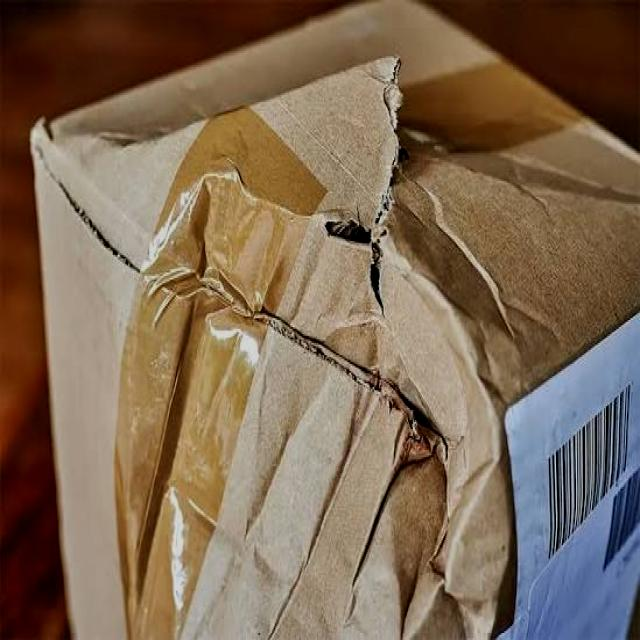carton_box: (27, 0, 640, 640)
package_damage: (81, 23, 592, 636)
